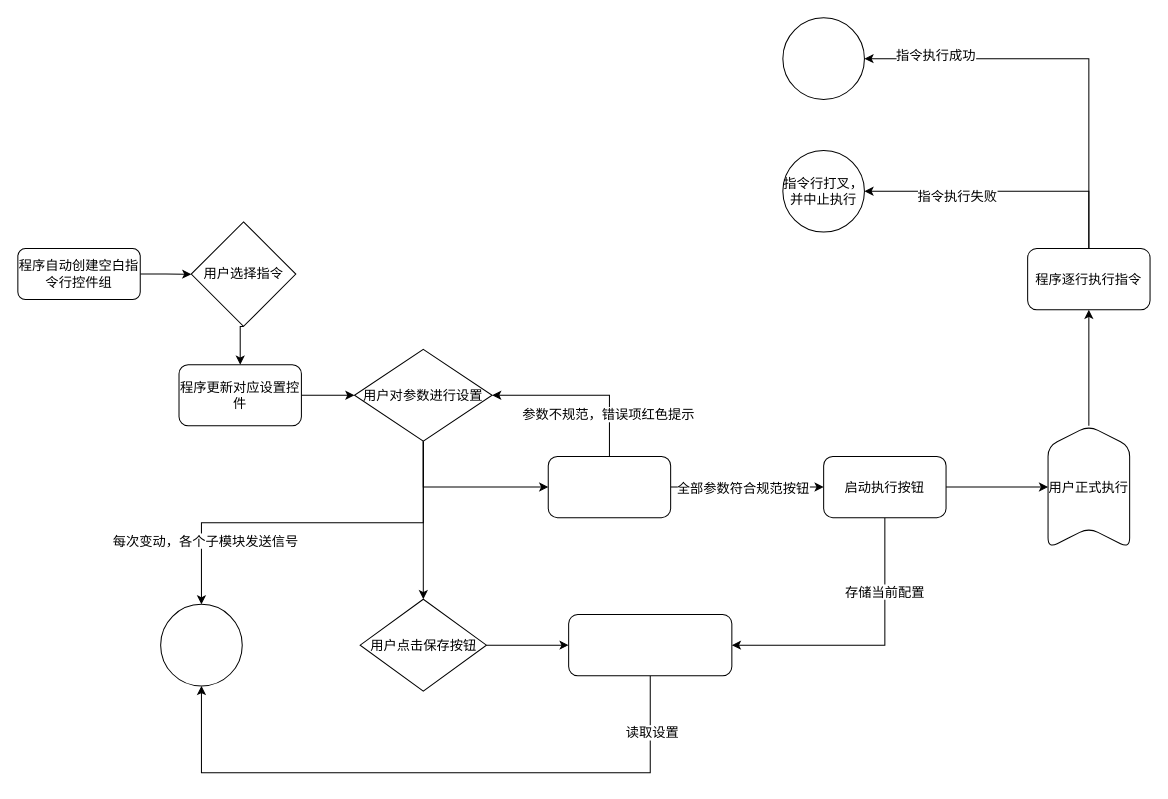
Image size: 1168x799. Some labels were removed from this diagram. The shapes that lost their labels are listed below. From the top down, each one's centre as x and y in pixels, then its label:
the point at 823,58: 指令行打钩，并继续执行
the point at 609,486: 程序自动检查参数的规范
the point at 201,644: 程序在内存中更新参数设置
the point at 650,645: 程序存储指令参数至配置文件（不论是否规范）
